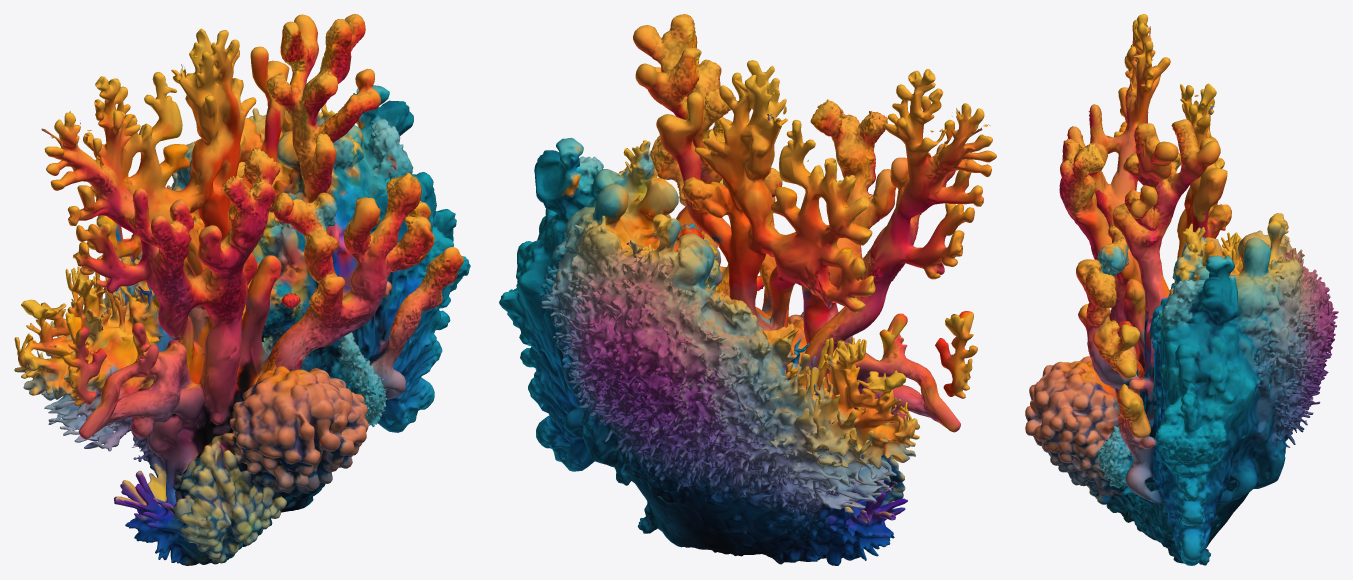
Rendered from gm-coral-200k-2k-668675002a5e.glb.
The picture shows the model from 3 angles, left to right: view 1: azimuth 30°, elevation 25°; view 2: azimuth 150°, elevation 25°; view 3: azimuth 270°, elevation 25°; orthographic projection. The views are drawn at different scales.
Visible parts, largest first — view 1: tripo_node_734b240a-095e-43ec-9f8c-8fe84a7f286d; view 2: tripo_node_734b240a-095e-43ec-9f8c-8fe84a7f286d; view 3: tripo_node_734b240a-095e-43ec-9f8c-8fe84a7f286d.
Part boxes in pixels (<box>): tripo_node_734b240a-095e-43ec-9f8c-8fe84a7f286d: <box>14,14,470,565</box>; tripo_node_734b240a-095e-43ec-9f8c-8fe84a7f286d: <box>499,14,996,565</box>; tripo_node_734b240a-095e-43ec-9f8c-8fe84a7f286d: <box>1025,14,1338,565</box>.
Size of the model in its own units: 0.9156 by 0.9997 by 0.621.
Materials: 1 (1 with a texture image).
